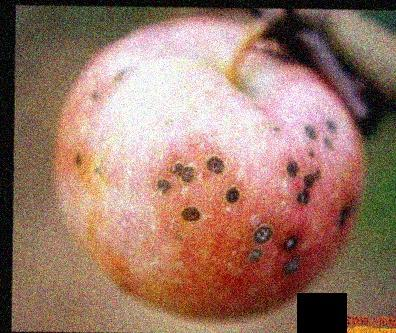rotten apple: (52, 16, 362, 321)
